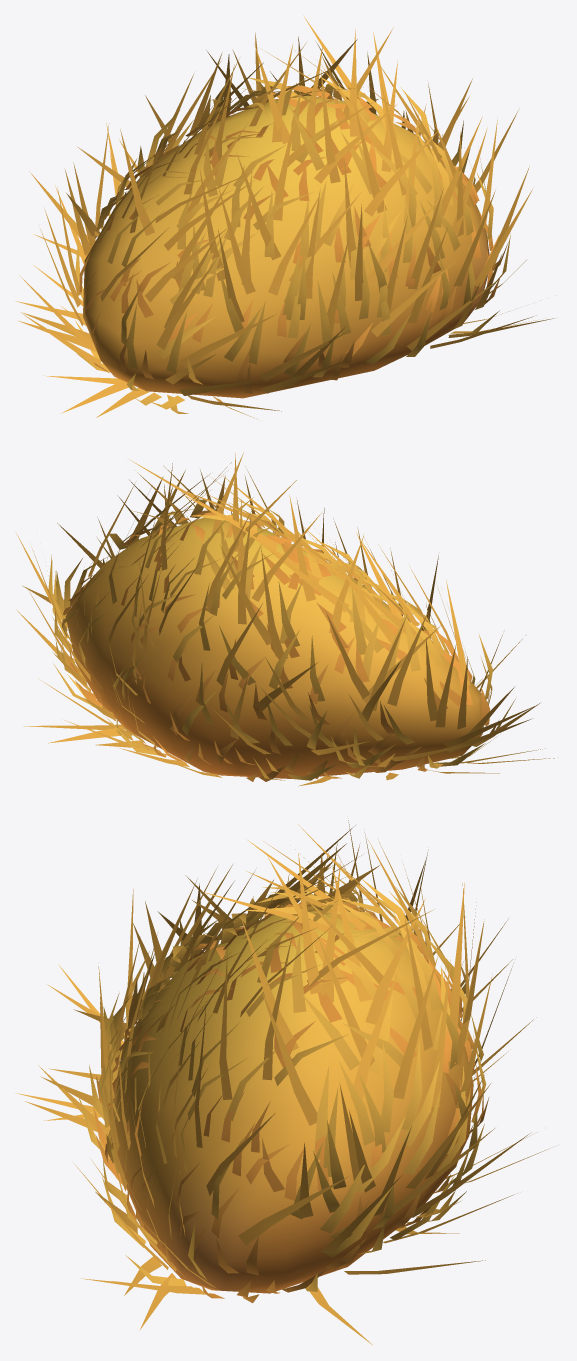
The model's file is hay_round.glb.
3 views of the same model, one above another, from view 1: azimuth 30°, elevation 25°; view 2: azimuth 150°, elevation 25°; view 3: azimuth 270°, elevation 25° (orthographic). The views are drawn at different scales.
Parts seen in each view (by area): view 1: haystackround; view 2: haystackround; view 3: haystackround.
Part boxes in pixels (bbox=[...]): haystackround: bbox=[15, 15, 555, 419]; haystackround: bbox=[16, 452, 558, 786]; haystackround: bbox=[15, 820, 557, 1344].
Size of the model in its own units: 4.36 by 2.43 by 3.06.
1 material, 1 textured.
